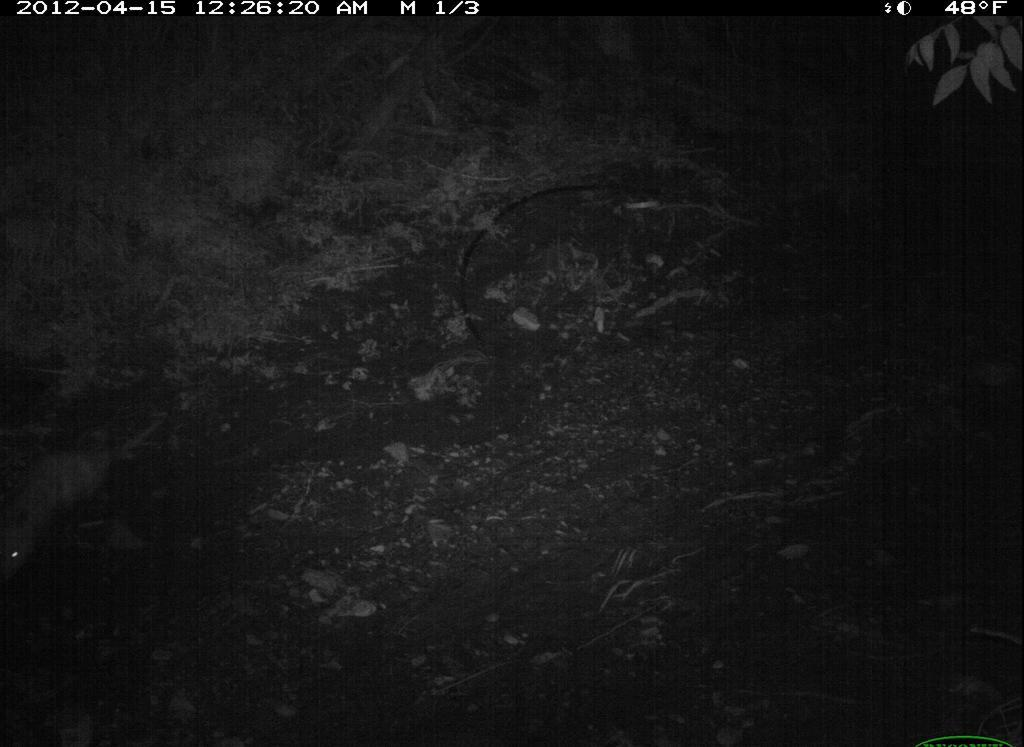opossum: (1, 392, 155, 598)
